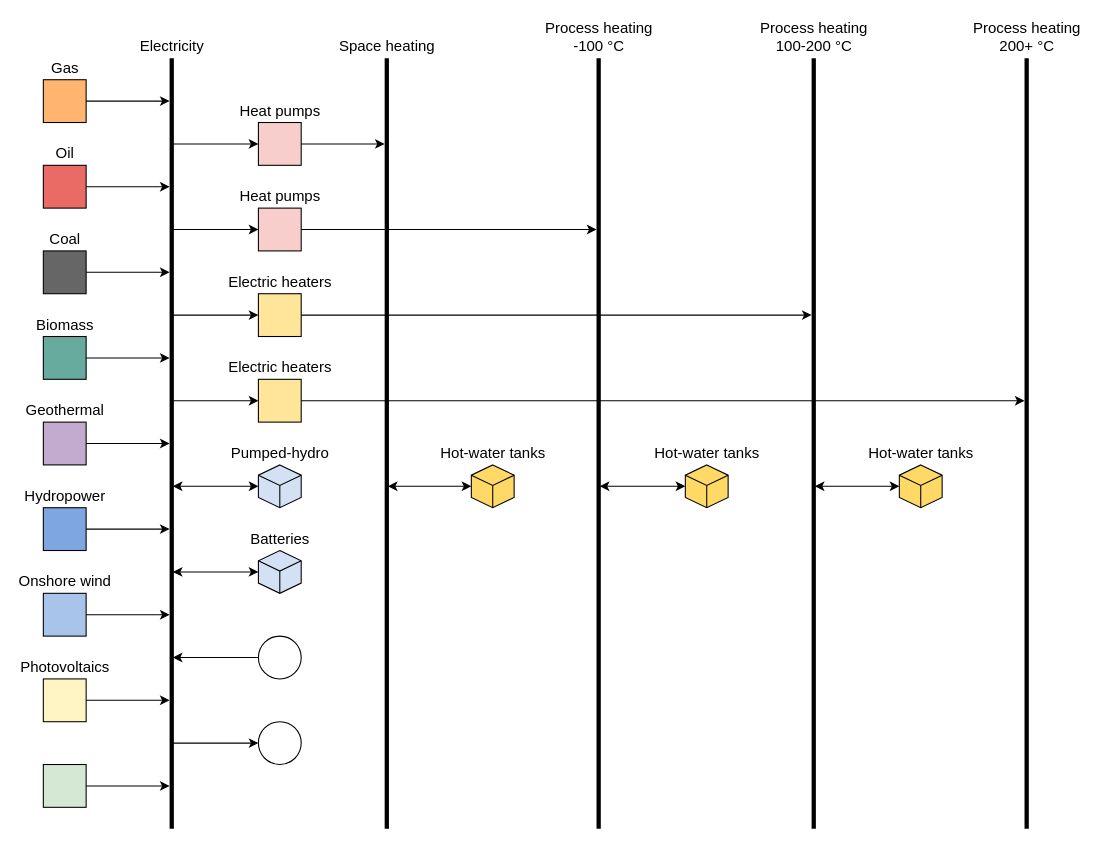
Some shapes in this 1098 by 849 pixel diagram are drawn without their labels. The centre of each missing label's shape, as x and y in pixels:
"Curtailment" belongs at point (279, 743).
"Hydrogen" belongs at point (64, 785).
"Slack" belongs at point (279, 657).
